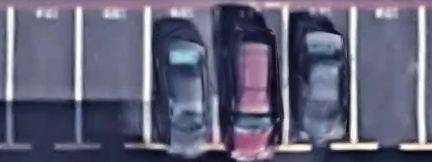Occupied: (216, 9, 286, 148), (285, 8, 354, 147), (147, 9, 216, 147)
Vacant: (10, 8, 80, 147), (353, 8, 422, 148), (79, 8, 147, 146)
